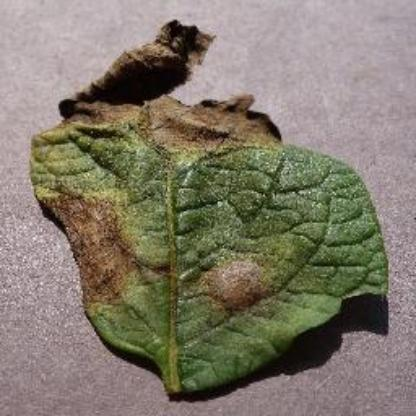Late-Blight: (14, 13, 404, 408)
